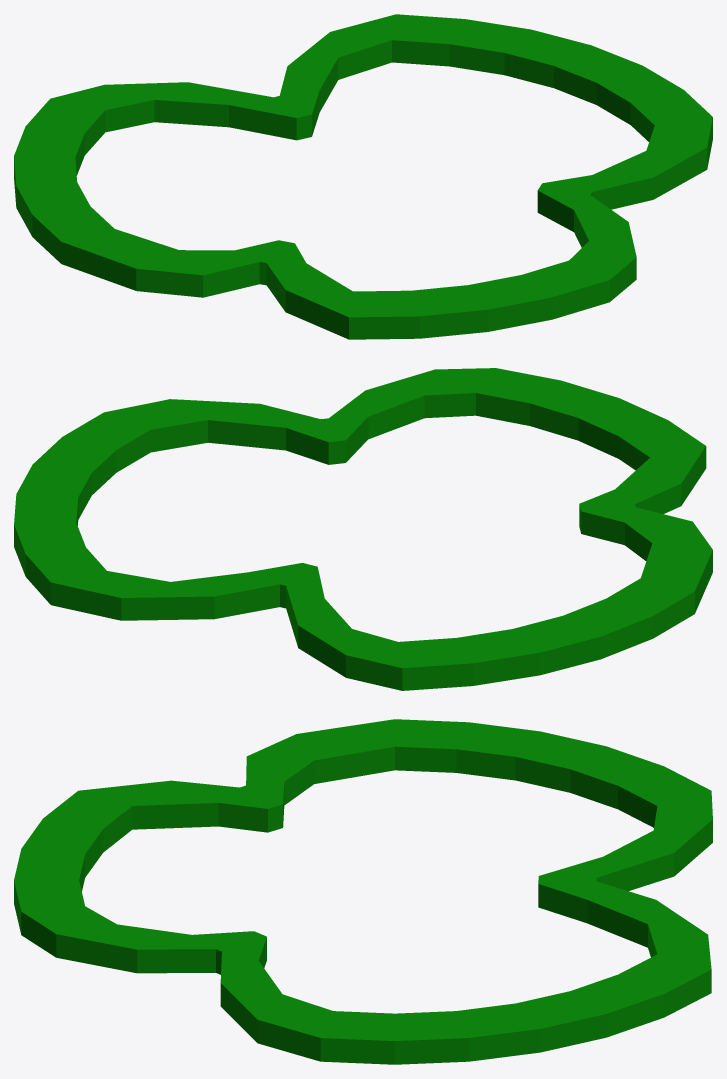
The model's file is bellpeper.fbx.
The picture shows the model from 3 angles, top to bottom: view 1: azimuth 30°, elevation 25°; view 2: azimuth 150°, elevation 25°; view 3: azimuth 270°, elevation 25°; orthographic projection. The views are drawn at different scales.
Parts seen in each view (by area): view 1: Bellpeper; view 2: Bellpeper; view 3: Bellpeper.
Part boxes in pixels (left/top/right/bottom): Bellpeper: left=14, top=14, right=712, bottom=339; Bellpeper: left=14, top=368, right=712, bottom=690; Bellpeper: left=14, top=719, right=712, bottom=1064.
Bounding box in the file's own units: 296 × 10.13 × 271.
